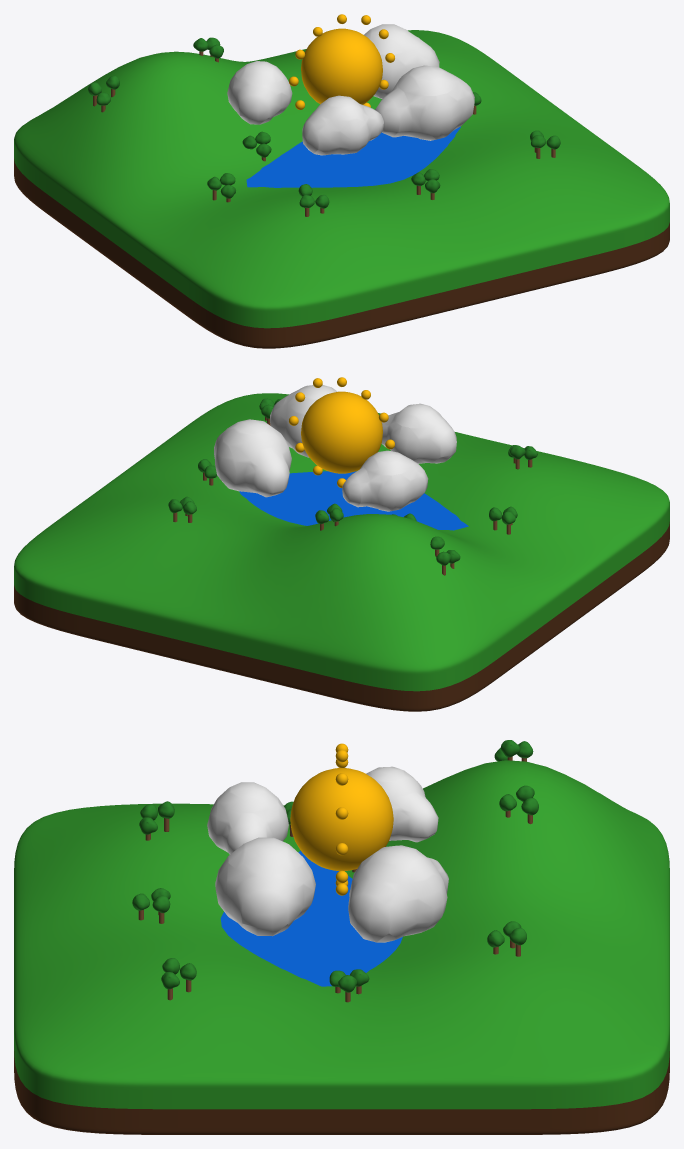
File: sun.glb
3 views of the same model, one above another, from view 1: azimuth 30°, elevation 25°; view 2: azimuth 150°, elevation 25°; view 3: azimuth 270°, elevation 25° (orthographic). The views are drawn at different scales.
Parts seen in each view (by area): view 1: Plane, cloud, Plane.001, sun, matahari2; view 2: Plane, cloud, sun, Plane.001, matahari2; view 3: Plane, cloud, Plane.001, sun, matahari2.
Part boxes in pixels (<box>): Plane: <box>14,30,669,348</box>; cloud: <box>227,24,474,155</box>; Plane.001: <box>246,126,460,187</box>; sun: <box>301,28,382,104</box>; matahari2: <box>289,14,394,109</box>; Plane: <box>14,393,669,711</box>; cloud: <box>214,385,456,511</box>; sun: <box>301,391,382,473</box>; Plane.001: <box>239,471,468,530</box>; matahari2: <box>289,377,394,487</box>; Plane: <box>14,760,669,1134</box>; cloud: <box>207,766,448,942</box>; Plane.001: <box>220,850,402,986</box>; sun: <box>290,768,393,871</box>; matahari2: <box>335,743,348,895</box>.
Bounding box in the file's own units: 12.68 × 6.51 × 12.68.
